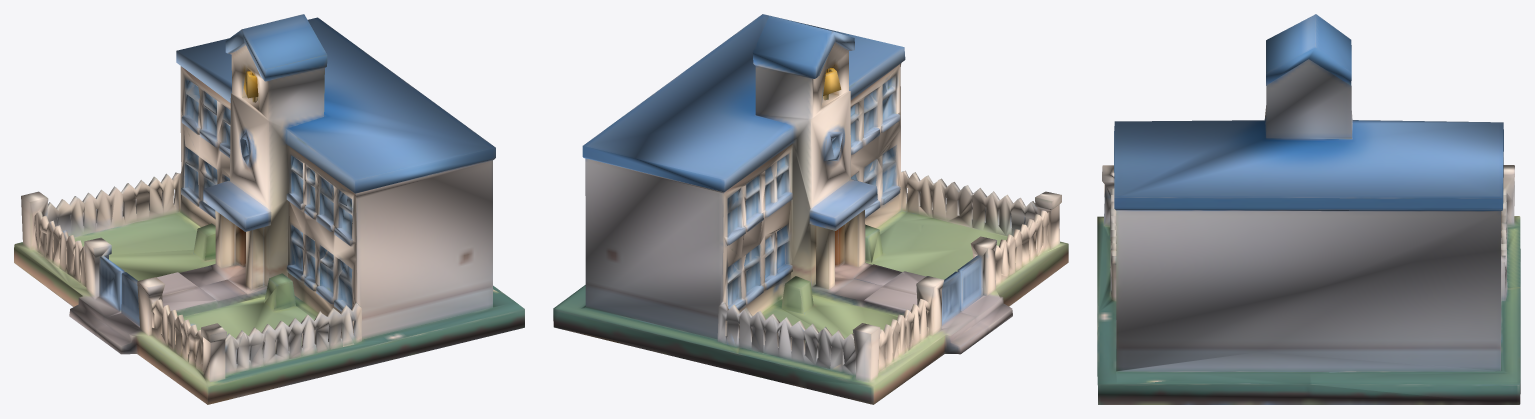
Rendered from okul.glb.
The picture shows the model from 3 angles, left to right: view 1: azimuth 30°, elevation 25°; view 2: azimuth 150°, elevation 25°; view 3: azimuth 270°, elevation 25°; orthographic projection. The views are drawn at different scales.
Parts seen in each view (by area): view 1: node_0; view 2: node_0; view 3: node_0.
Boxes of the visible parts, x1=… form: node_0: x1=14, y1=14, x2=524, y2=404; node_0: x1=553, y1=14, x2=1068, y2=404; node_0: x1=1097, y1=14, x2=1520, y2=404.
Size of the model in its own units: 0.7444 by 0.5749 by 0.7506.
1 material, 1 textured.
